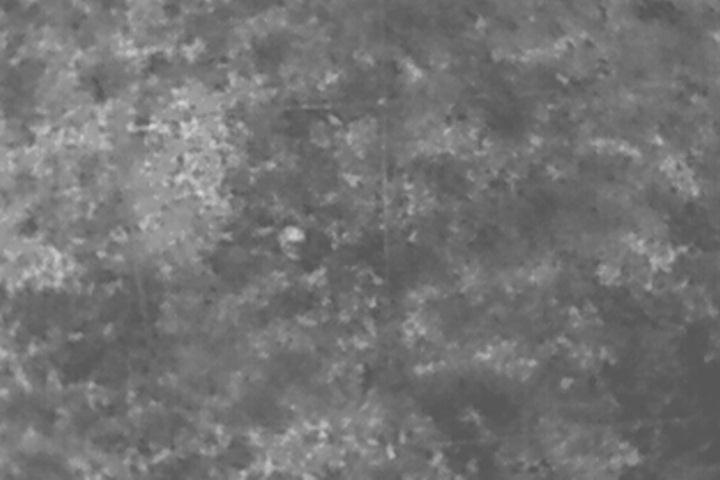landmine: (282, 224, 305, 245)
